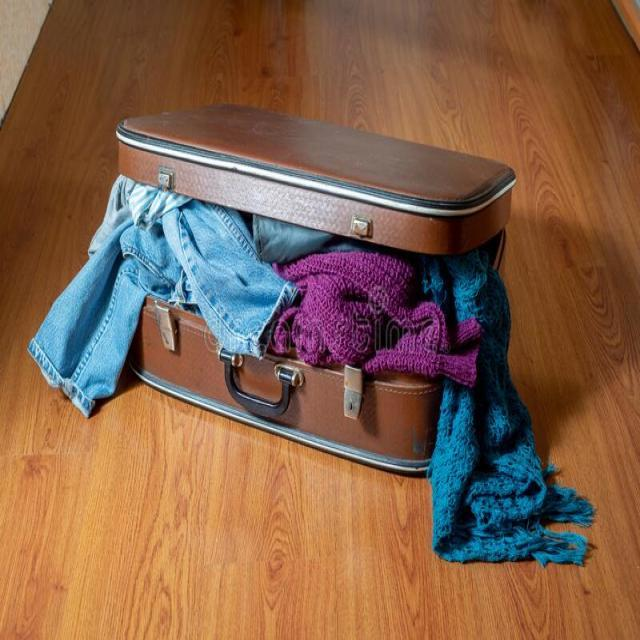clothes: (20, 183, 582, 572)
